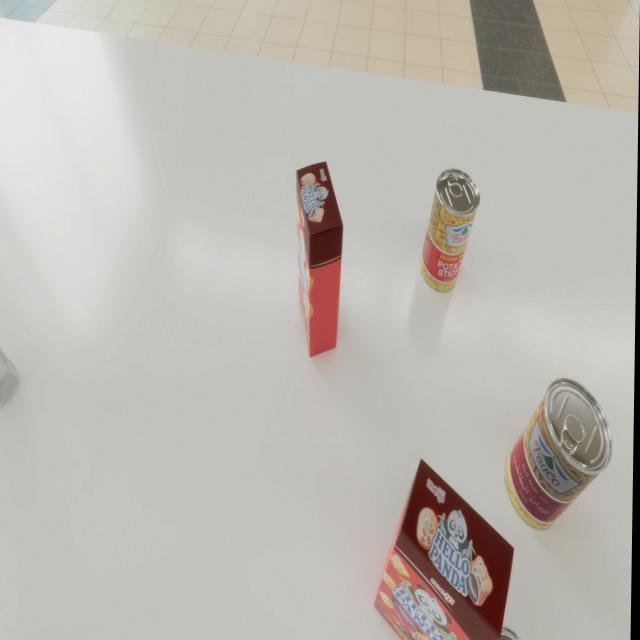HelloPanda: (375, 458, 516, 640), (294, 162, 345, 358)
Potato_sticks: (505, 378, 615, 530), (421, 168, 481, 293)
